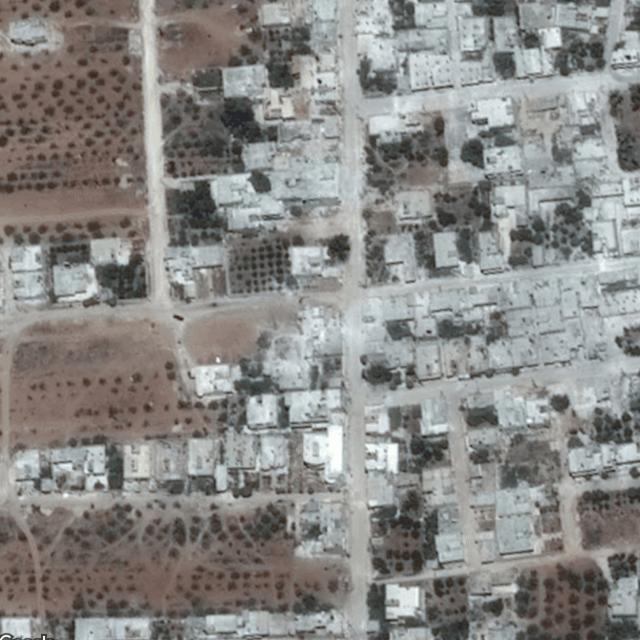damaged_building: (263, 304, 342, 390)
